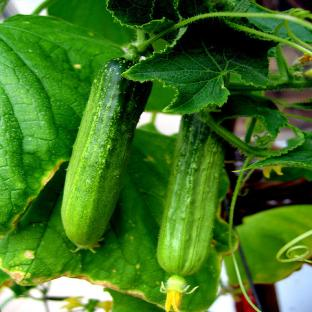Cucumber: (62, 58, 151, 249), (157, 113, 224, 276)
